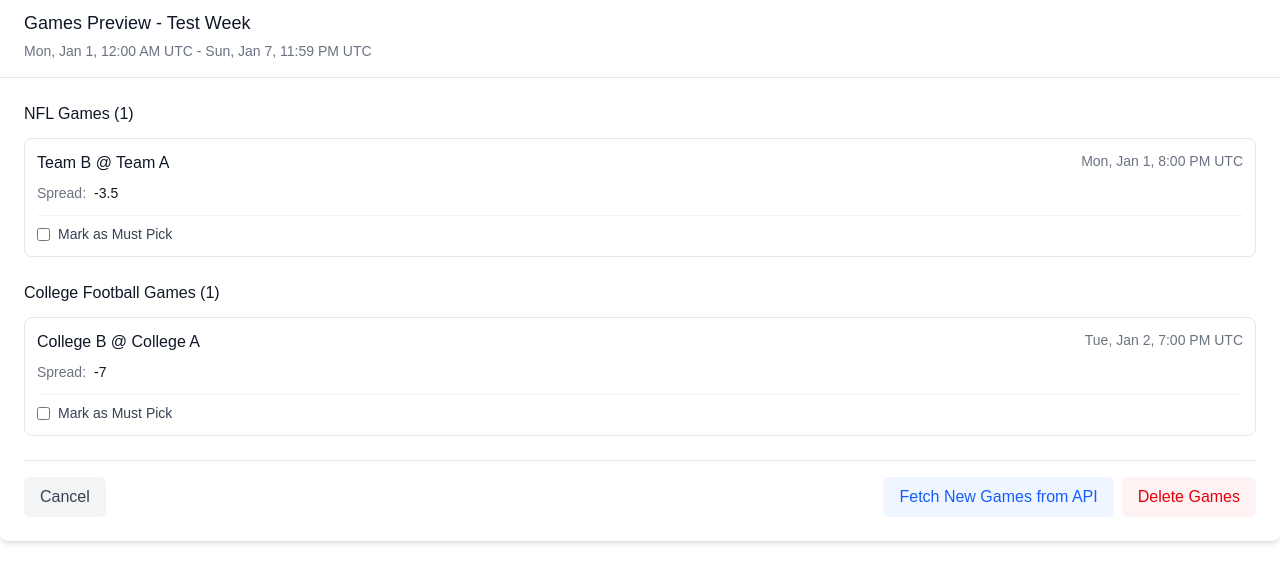
GamesPreview › Delete Games › should delete existing games
// Click delete games button
Click the button "Delete Games" at (1189, 497), box [1122,477,1256,517]
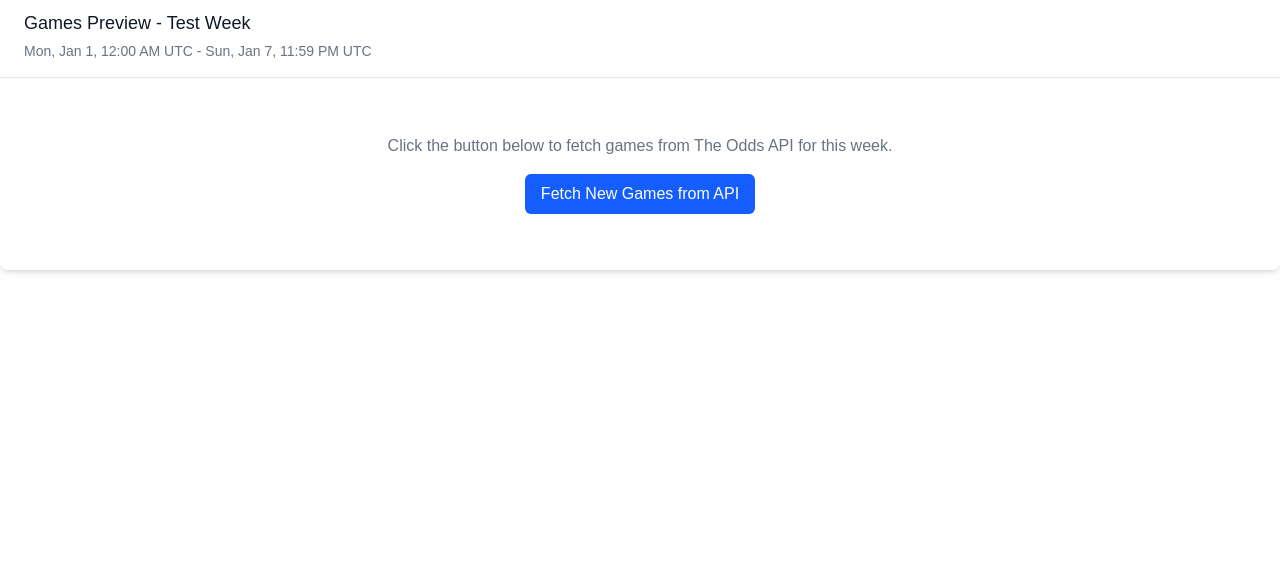
Now the text "Click the button below to fetch games from The Odds API for this week." is shown, box [388,137,892,154]
